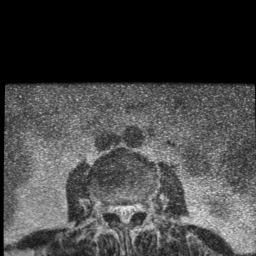CCS_normal: (120, 195, 128, 230)
LFS_normal: (135, 193, 145, 219)
LLS_normal: (128, 195, 135, 226)
RFS_normal: (105, 195, 113, 220)
RLS_normal: (113, 196, 120, 224)
